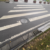zebra: (1, 5, 50, 30)
